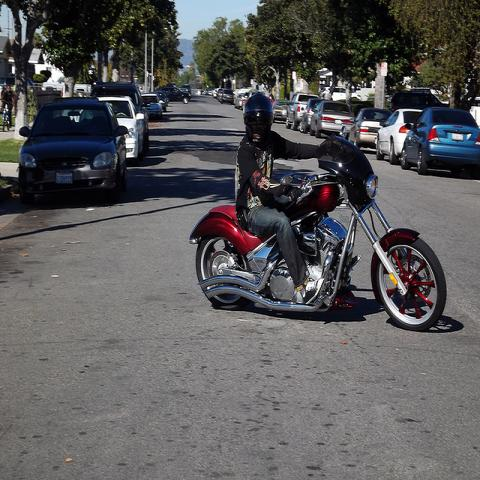car: (91, 80, 359, 134), (18, 96, 130, 207), (399, 105, 479, 177), (97, 96, 146, 167), (375, 108, 424, 166), (344, 107, 392, 149), (310, 101, 354, 138), (389, 91, 450, 112), (284, 92, 318, 128), (160, 86, 192, 103), (141, 93, 162, 117), (272, 100, 290, 121), (150, 91, 168, 112), (216, 88, 234, 105)
motorcycle: (191, 132, 447, 328)
